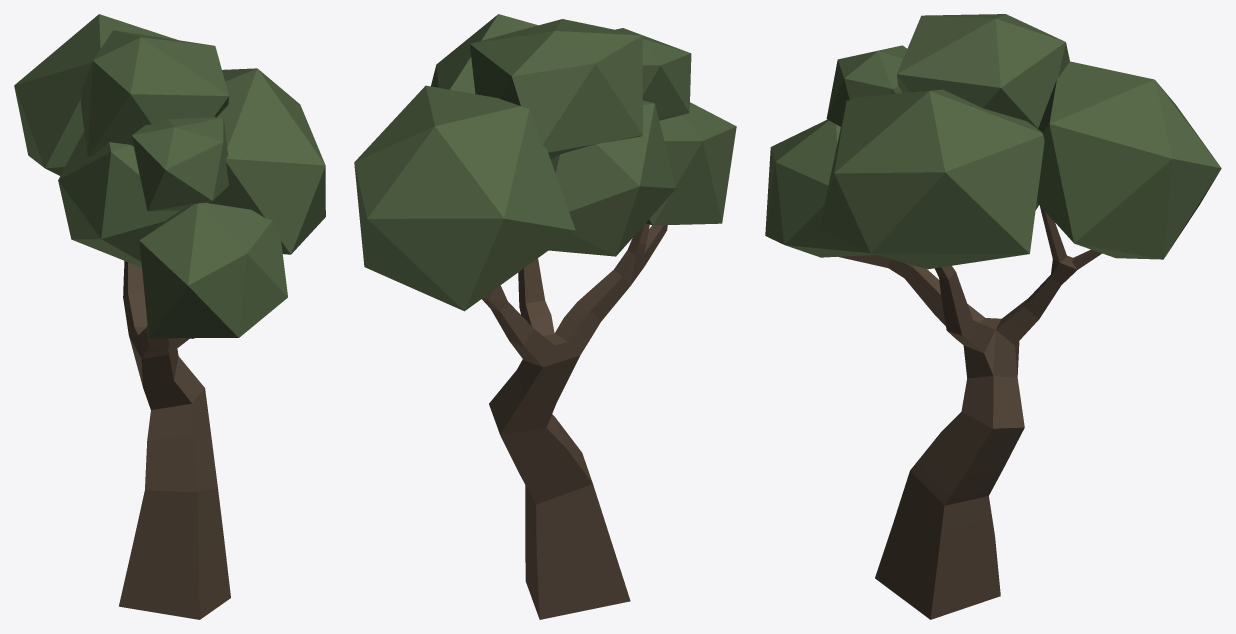
Rendered from TREE_LOW_POLY.fbx.
3 renders of one model, left to right at view 1: azimuth 30°, elevation 25°; view 2: azimuth 150°, elevation 25°; view 3: azimuth 270°, elevation 25°, orthographic. The views are drawn at different scales.
Parts seen in each view (by area): view 1: TREE_LOW_POLY; view 2: TREE_LOW_POLY; view 3: TREE_LOW_POLY.
Part boxes in pixels (x1,y1,x2,y2): TREE_LOW_POLY: [14, 14, 325, 619]; TREE_LOW_POLY: [354, 14, 736, 619]; TREE_LOW_POLY: [765, 14, 1221, 619].
Bounding box in the file's own units: 203 × 496 × 359.
